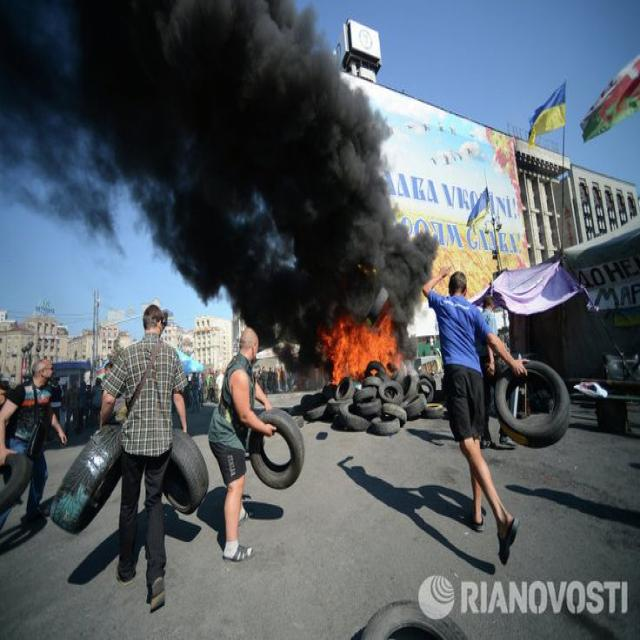fire: (319, 320, 401, 382)
